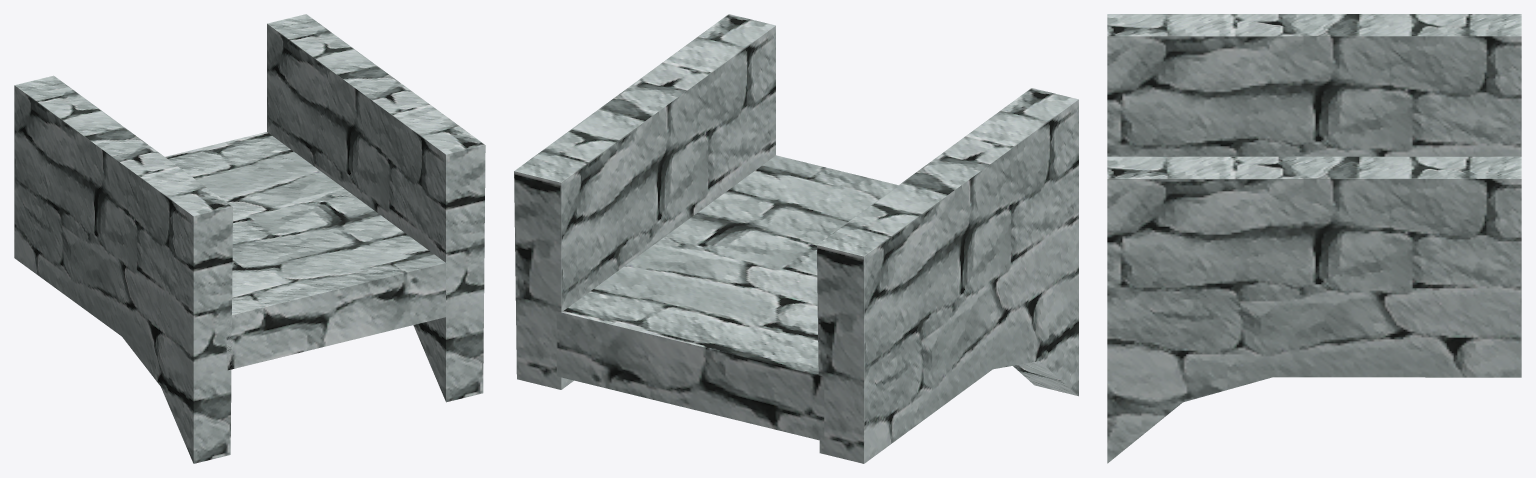
File: SM_Bridge_02.fbx
3 views of the same model, side by side, from view 1: azimuth 30°, elevation 25°; view 2: azimuth 150°, elevation 25°; view 3: azimuth 270°, elevation 25° (orthographic). The views are drawn at different scales.
Visible parts, largest first — view 1: SM_Bridge_02; view 2: SM_Bridge_02; view 3: SM_Bridge_02.
Part boxes in pixels (bbox=[...]): SM_Bridge_02: bbox=[14, 14, 485, 463]; SM_Bridge_02: bbox=[514, 14, 1078, 463]; SM_Bridge_02: bbox=[1107, 14, 1521, 463].
Size of the model in its own units: 28.23 by 22.87 by 30.
